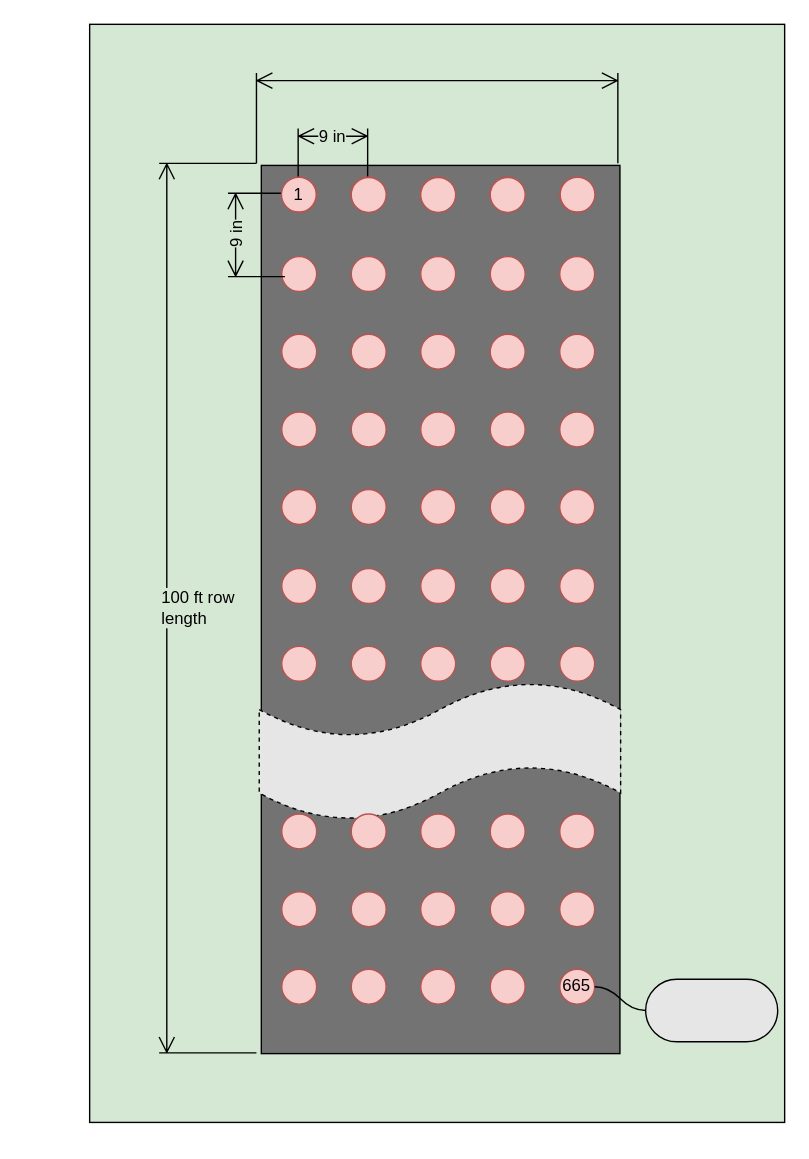
This 809x1159 diagram has some shape labels left out. The shapes that lost their labels are listed below. From the top down, each one's centre as x and y in pixels, then its label:
point 436,117: 4ft row width
point 711,1010: 665 plants per row
